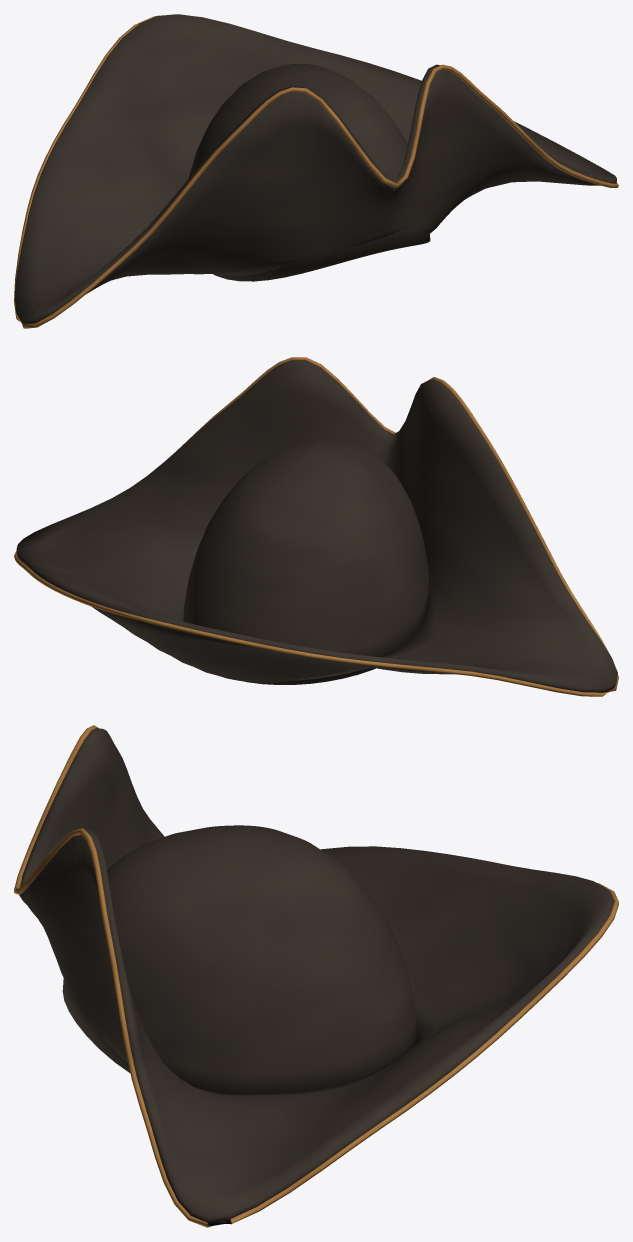
Rendered from hat.glb.
3 renders of one model, top to bottom at view 1: azimuth 30°, elevation 25°; view 2: azimuth 150°, elevation 25°; view 3: azimuth 270°, elevation 25°, orthographic. The views are drawn at different scales.
Parts seen in each view (by area): view 1: TricornHat; view 2: TricornHat; view 3: TricornHat.
Boxes of the visible parts, left/top/right/bottom form: TricornHat: left=14, top=14, right=618, bottom=328; TricornHat: left=14, top=357, right=618, bottom=696; TricornHat: left=14, top=725, right=618, bottom=1227.
Bounding box in the file's own units: 0.645 × 0.2312 × 0.4589.
Materials: 1 (1 with a texture image).
